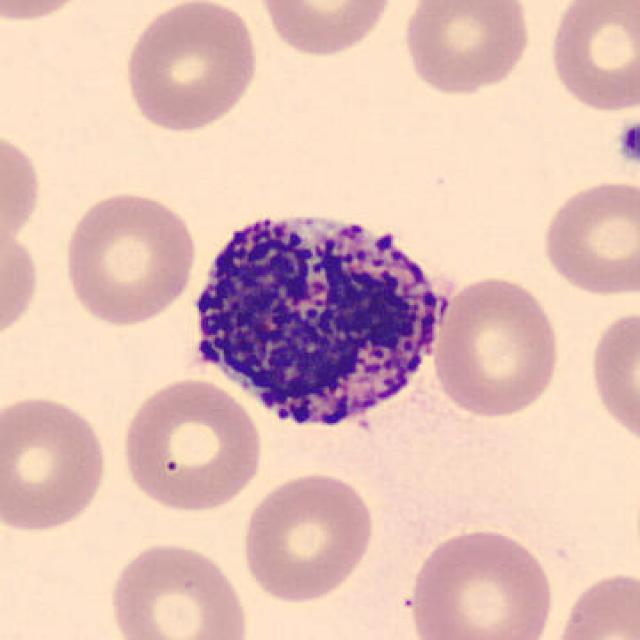Basophil: (176, 192, 459, 443)
Platelets: (613, 118, 640, 169)
RBC: (116, 374, 266, 516), (59, 185, 201, 330), (430, 272, 564, 422), (236, 467, 378, 607), (119, 0, 263, 136), (403, 523, 558, 640), (0, 391, 112, 536), (103, 537, 252, 640), (398, 0, 535, 99), (537, 175, 638, 298), (544, 0, 638, 116), (252, 0, 398, 60), (585, 304, 638, 452), (546, 566, 638, 640), (0, 213, 43, 351), (0, 123, 44, 252), (0, 0, 98, 25)
